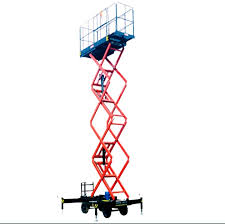Scissor Lift: (60, 1, 144, 222)
